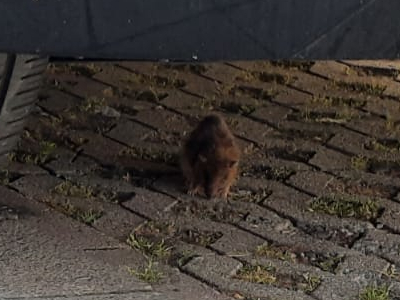rat: (166, 104, 251, 208)
